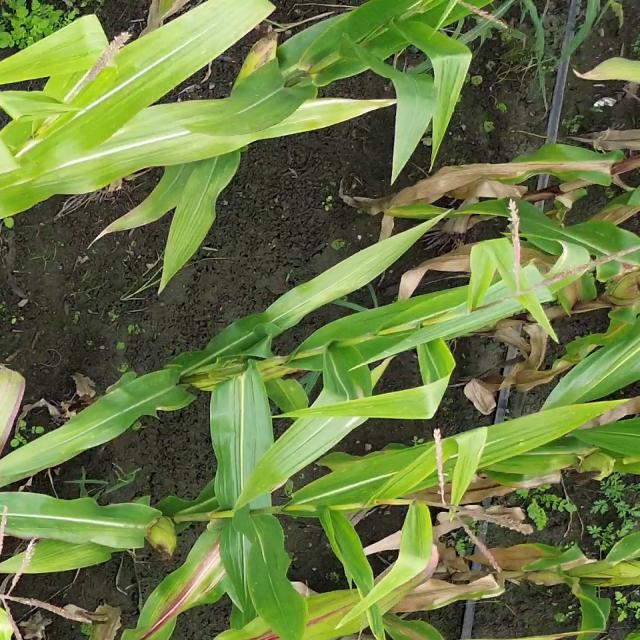northern-leaf-blight: (250, 570, 520, 636), (121, 527, 231, 640)
